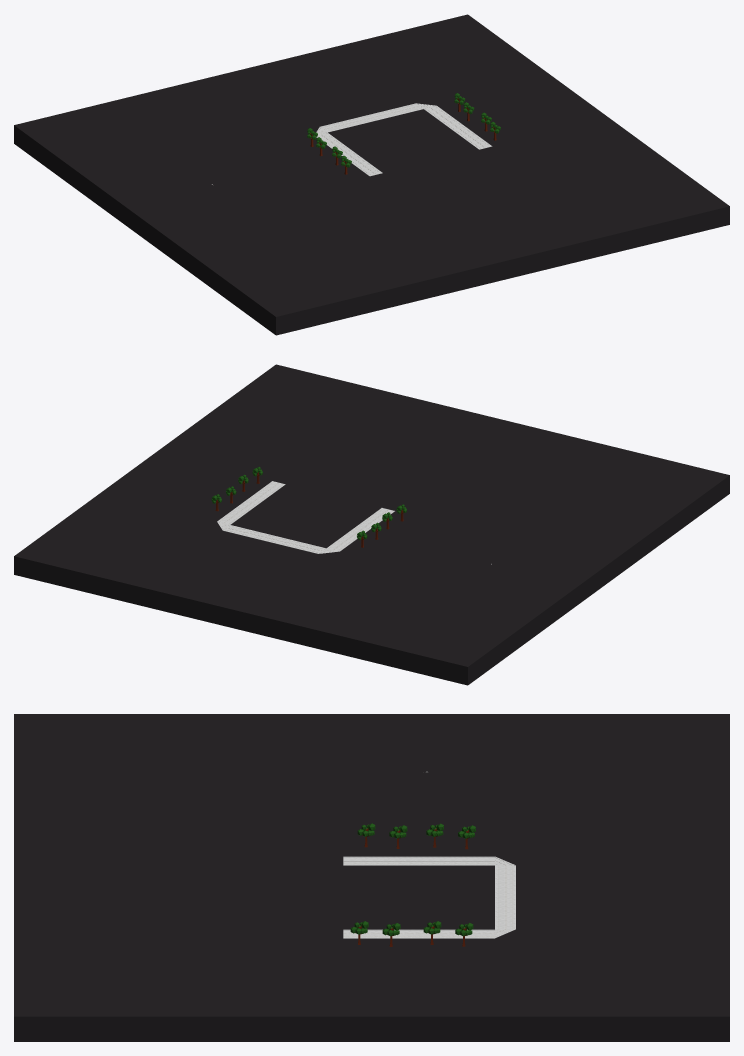
3 renders of one model, top to bottom at view 1: azimuth 30°, elevation 25°; view 2: azimuth 150°, elevation 25°; view 3: azimuth 270°, elevation 25°, orthographic. The views are drawn at different scales.
Parts seen in each view (by area): view 1: Baseplate1, Part13, Part20, Part6; view 2: Baseplate1, Part13, Part20, Part6; view 3: Baseplate1, Part6, Part13, Part20.
Part boxes in pixels (box(x1,y1,x2,y2)): Baseplate1: box(14, 14, 729, 335); Part13: box(321, 104, 422, 131); Part20: box(425, 106, 490, 149); Part6: box(317, 133, 381, 175); Baseplate1: box(14, 364, 729, 685); Part13: box(224, 525, 324, 553); Part20: box(219, 481, 283, 524); Part6: box(328, 508, 393, 550); Baseplate1: box(14, 714, 729, 1041); Part6: box(343, 857, 494, 864); Part13: box(497, 865, 513, 929); Part20: box(343, 930, 494, 937).
Bounding box in the file's own units: 512 × 38.37 × 512.
7 materials, 4 textured.
